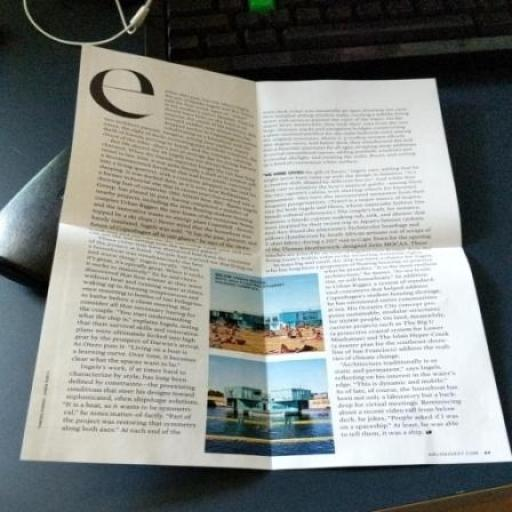paper: (8, 9, 512, 494)
